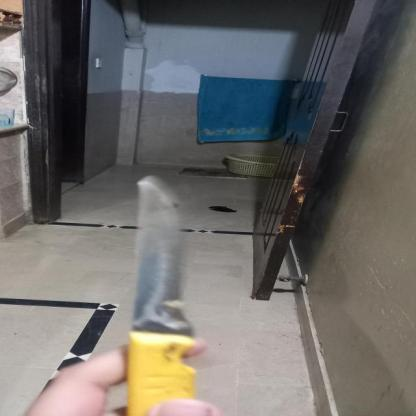Knife: (116, 166, 221, 416)
